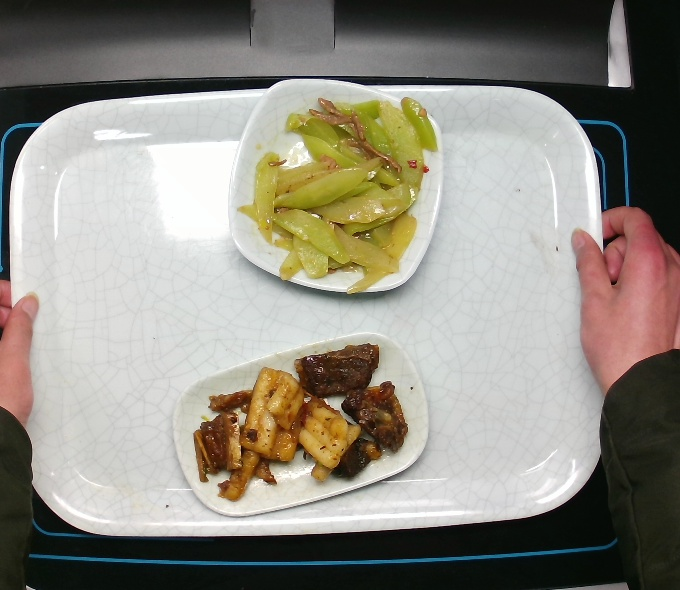wcq-NianGaoZaiPai: (183, 341, 420, 507)
wcq-WoSun: (237, 97, 447, 297)
